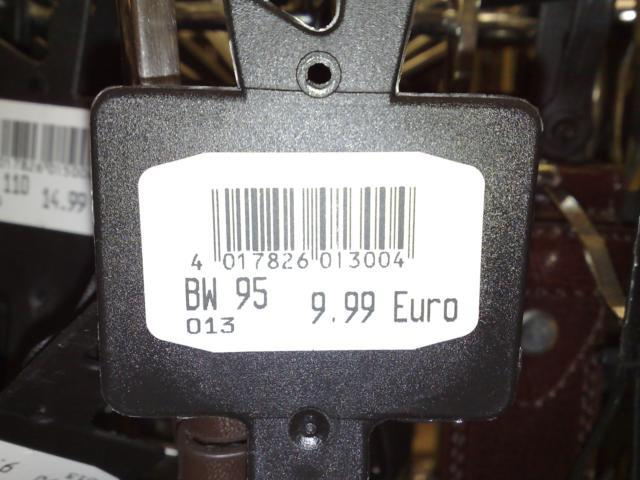Barcode: (181, 176, 433, 275)
